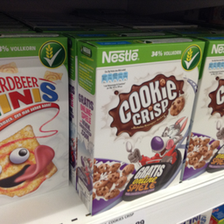cereal: (77, 40, 205, 215), (1, 35, 69, 208)
